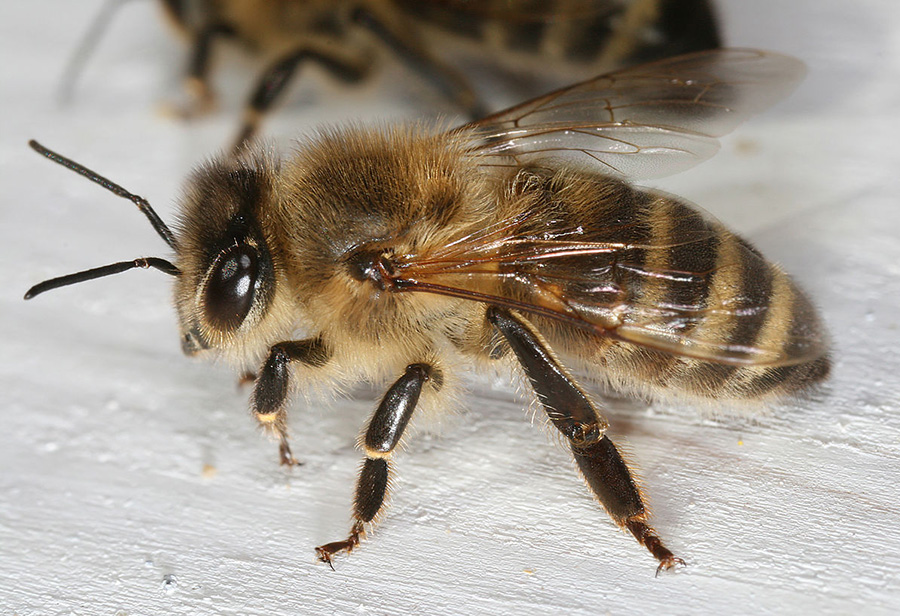Africanized Honey Bee: (16, 37, 864, 581)
